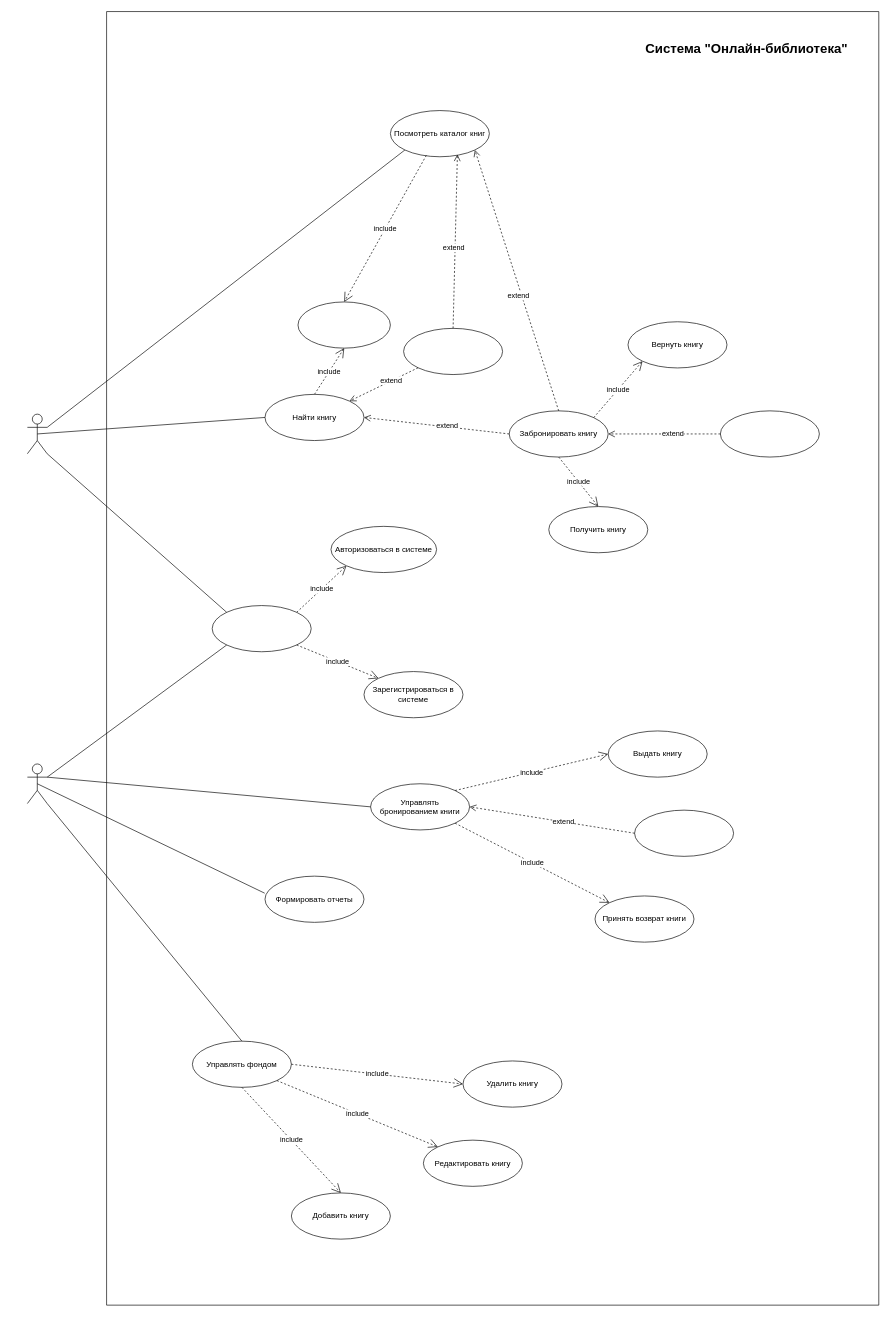
Image size: 891x1317. Some labels were removed from this diagram. The centre of each missing label's shape, as x and y in pixels:
Библиотекарь: the point at 37,783
Войти в личный кабинет: the point at 261,628
Оставить отзыв: the point at 453,351
Посмотреть информацию о книге: the point at 343,324
Продлить бронь книги: the point at 684,832
Продлить срок бронирования книги: the point at 769,433
Читатель: the point at 37,433
